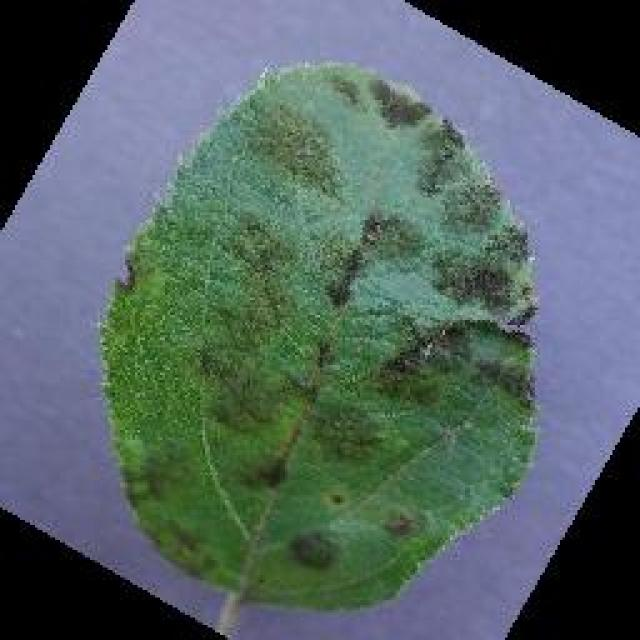apple scab disease: (95, 55, 543, 617)
